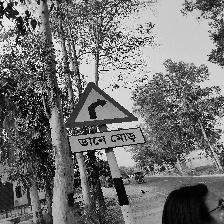Right-turn: (64, 82, 146, 154)
